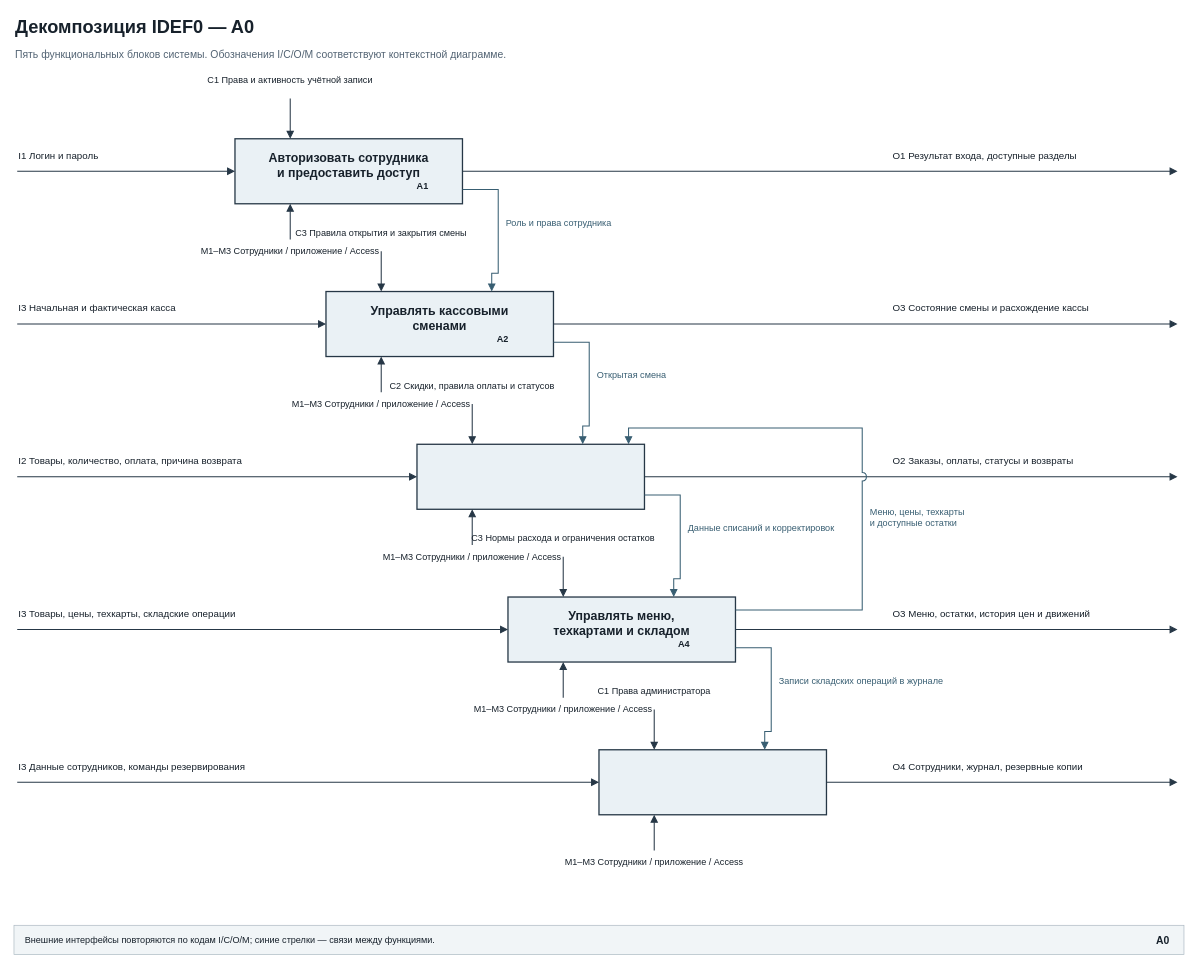
The diagram is 1196 pixels wide and 966 high, and some of its shapes have lost their labels. The shapes that lost their labels are listed below. From the top down, each one's centre as x and y in pixels, then its label:
At point (530, 476): "Оформлять и обрабатывать заказы A3".
At point (712, 782): "Администрировать систему A5".
